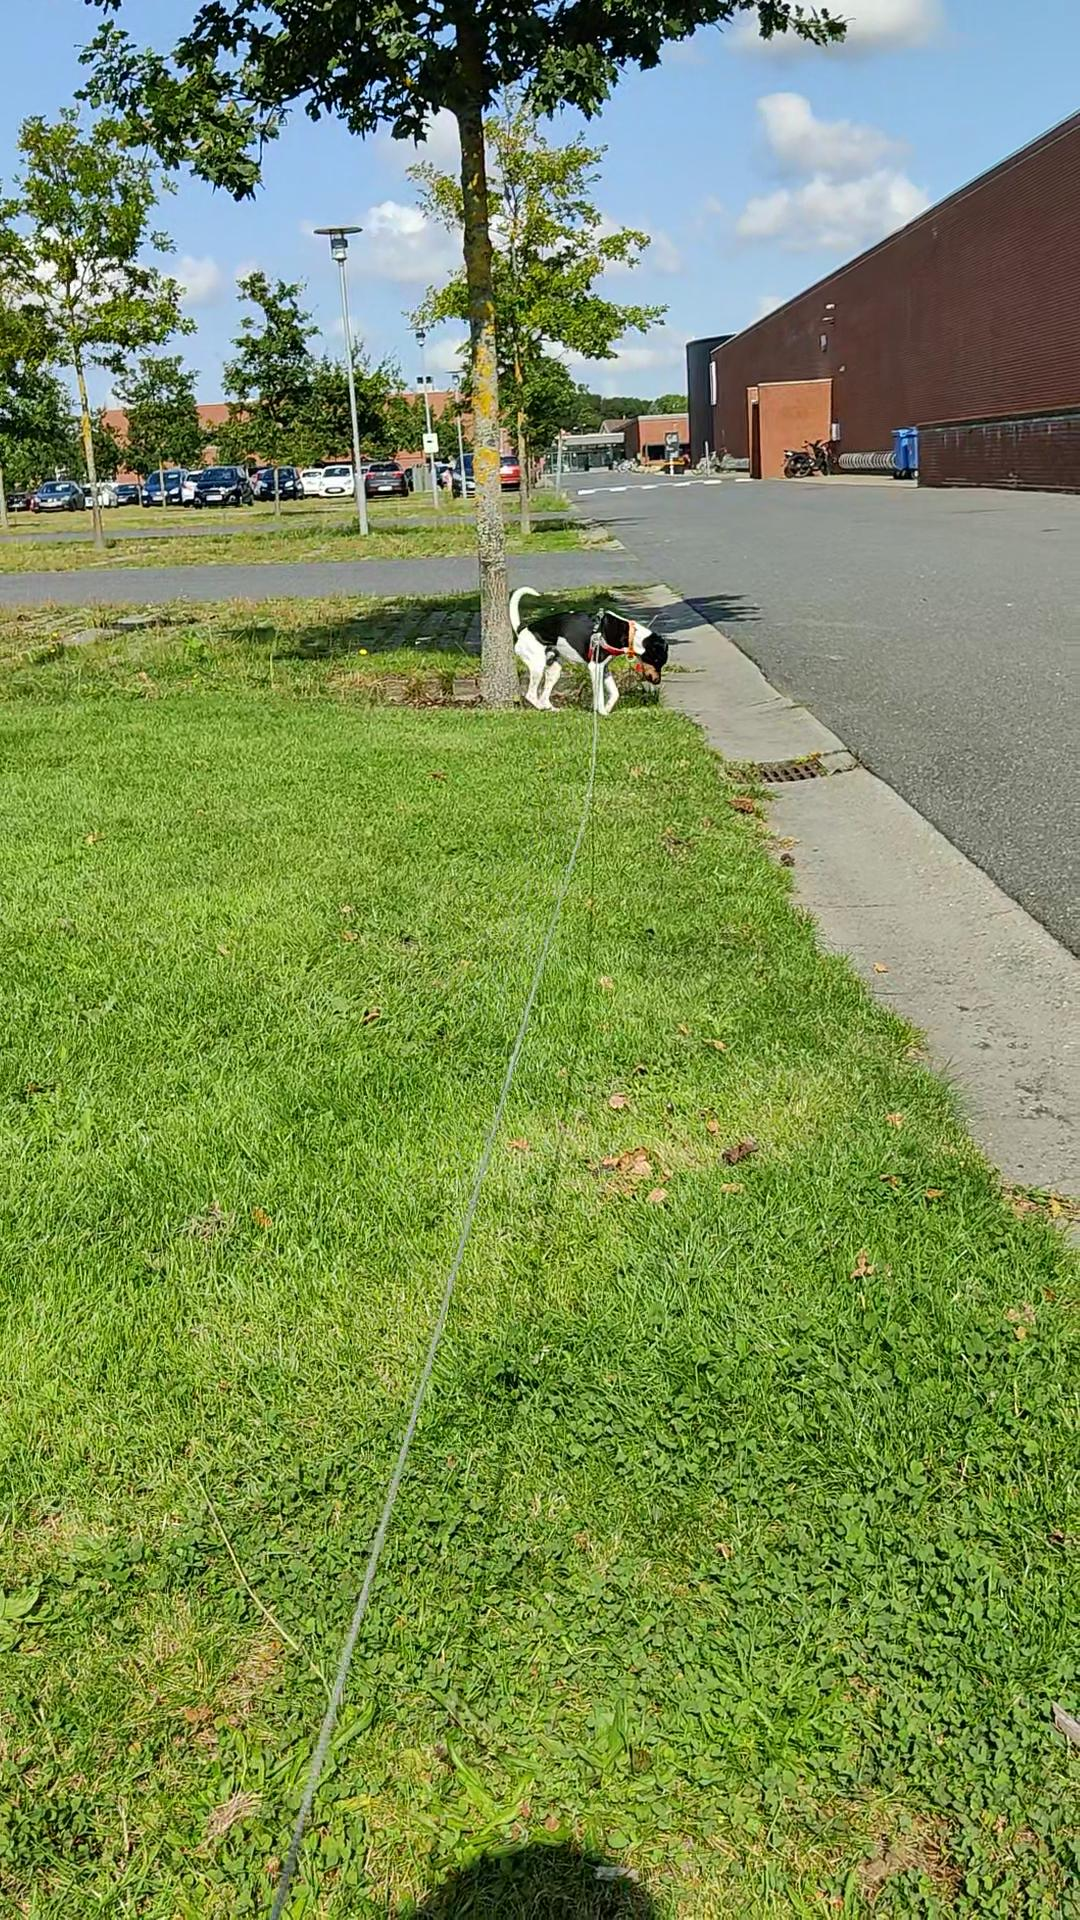Dog: (506, 583, 670, 716)
